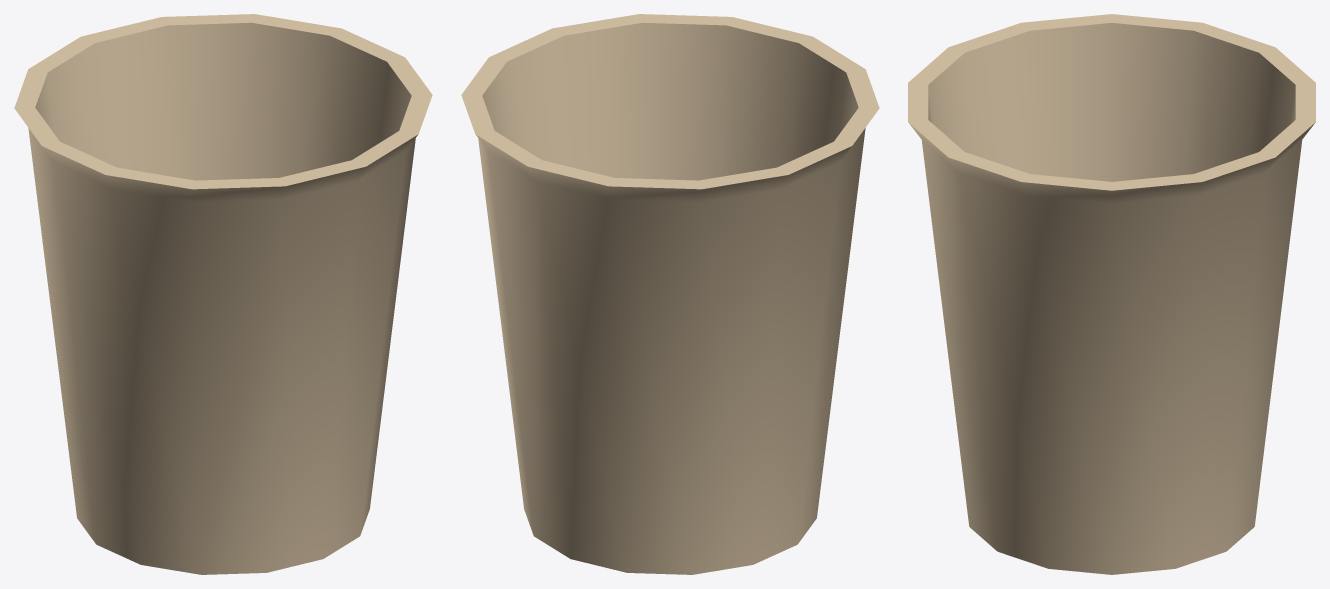
Rendered from cup_espresso_tan.fbx.
3 views of the same model, side by side, from view 1: azimuth 30°, elevation 25°; view 2: azimuth 150°, elevation 25°; view 3: azimuth 270°, elevation 25° (orthographic).
Visible parts, largest first — view 1: cup_espresso_tan; view 2: cup_espresso_tan; view 3: cup_espresso_tan.
Boxes of the visible parts, x1=… form: cup_espresso_tan: x1=14, y1=14, x2=432, y2=574; cup_espresso_tan: x1=461, y1=14, x2=879, y2=574; cup_espresso_tan: x1=908, y1=14, x2=1315, y2=574.
Bounding box in the file's own units: 0.06 × 0.065 × 0.0585.
